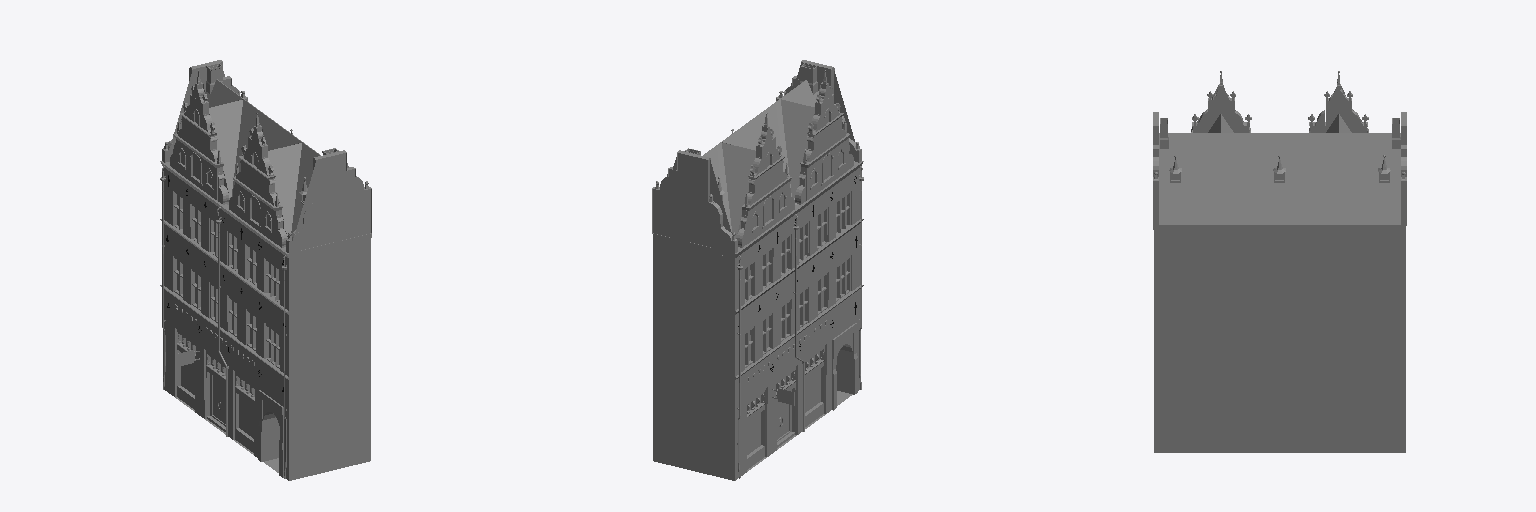
File: royal.obj
3 renders of one model, left to right at view 1: azimuth 30°, elevation 25°; view 2: azimuth 150°, elevation 25°; view 3: azimuth 270°, elevation 25°, orthographic.
Parts seen in each view (by area): view 1: Box01; view 2: Box01; view 3: Box01.
Boxes of the visible parts, box(x1,y1,x2,y2) form: Box01: box(160, 60, 371, 480); Box01: box(652, 60, 863, 480); Box01: box(1153, 71, 1406, 452).
Bounding box in the file's own units: 146 × 455 × 305.